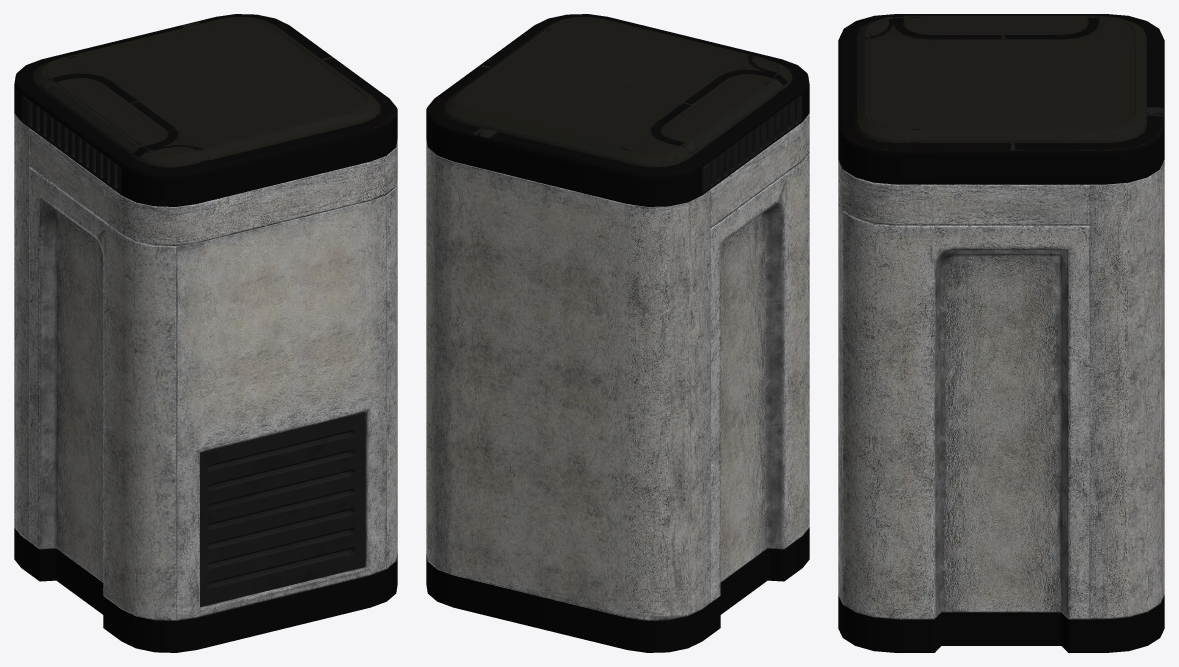
The model's file is pedal_bin.glb.
The picture shows the model from 3 angles, left to right: view 1: azimuth 30°, elevation 25°; view 2: azimuth 150°, elevation 25°; view 3: azimuth 270°, elevation 25°; orthographic projection. The views are drawn at different scales.
Parts seen in each view (by area): view 1: Plane.002, Plane.005, Plane.001, Plane.006, Plane.004, Plane.007, Plane.003, Plane.009; view 2: Plane.003, Plane.001, Plane.002, Plane.007, Plane.004, Plane.009; view 3: Plane.002, Plane.001, Plane.003, Plane.007, Plane.004, Plane.005.
Boxes of the visible parts, x1,y1,x2,y2 form: Plane.002: [29, 168, 397, 620]; Plane.005: [176, 195, 386, 620]; Plane.001: [14, 14, 397, 206]; Plane.006: [200, 412, 365, 607]; Plane.004: [29, 128, 397, 246]; Plane.007: [14, 527, 397, 652]; Plane.003: [14, 113, 29, 541]; Plane.009: [21, 94, 121, 193]; Plane.003: [426, 139, 710, 620]; Plane.001: [426, 14, 809, 206]; Plane.002: [710, 153, 809, 602]; Plane.007: [426, 527, 809, 652]; Plane.004: [710, 113, 809, 228]; Plane.009: [702, 94, 802, 193]; Plane.002: [842, 211, 1089, 619]; Plane.001: [838, 14, 1164, 184]; Plane.003: [1089, 160, 1164, 619]; Plane.007: [838, 595, 1164, 652]; Plane.004: [838, 160, 1089, 225]; Plane.005: [838, 202, 842, 603].
Bounding box in the file's own units: 0.5204 × 0.8957 × 0.5187.
9 materials, 9 textured.
